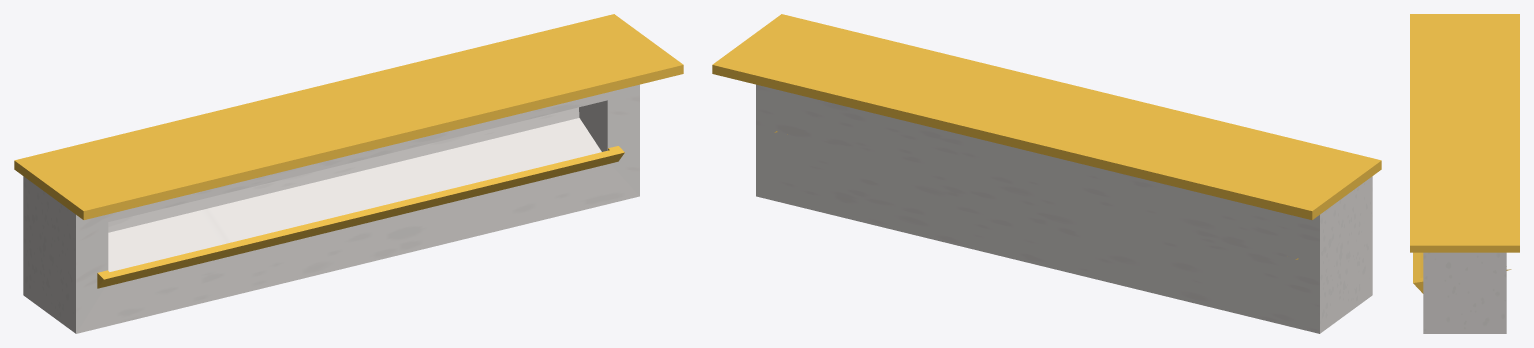
File: GasStationMainCounter.fbx
3 renders of one model, left to right at view 1: azimuth 30°, elevation 25°; view 2: azimuth 150°, elevation 25°; view 3: azimuth 270°, elevation 25°, orthographic. The views are drawn at different scales.
Visible parts, largest first — view 1: Counter.001; view 2: Counter.001; view 3: Counter.001.
Boxes of the visible parts, bbox=[...] form: Counter.001: bbox=[14, 14, 683, 333]; Counter.001: bbox=[712, 14, 1381, 333]; Counter.001: bbox=[1410, 14, 1519, 333].
Bounding box in the file's own units: 591 × 121 × 118.
